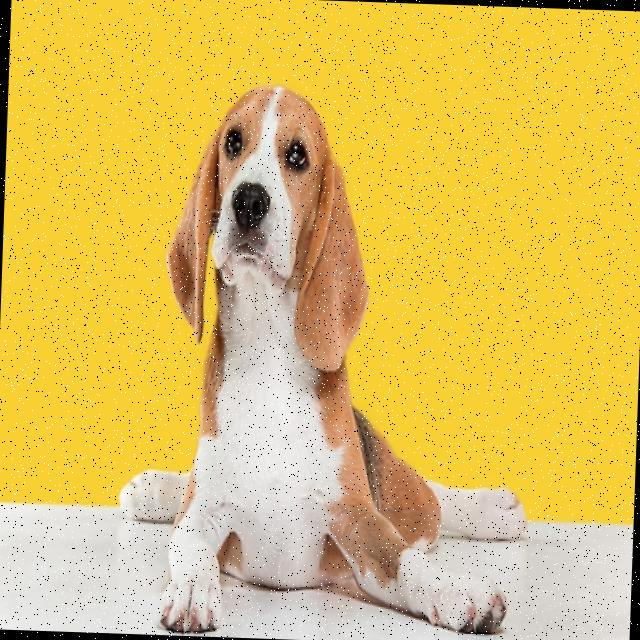Dog: (112, 80, 541, 640)
